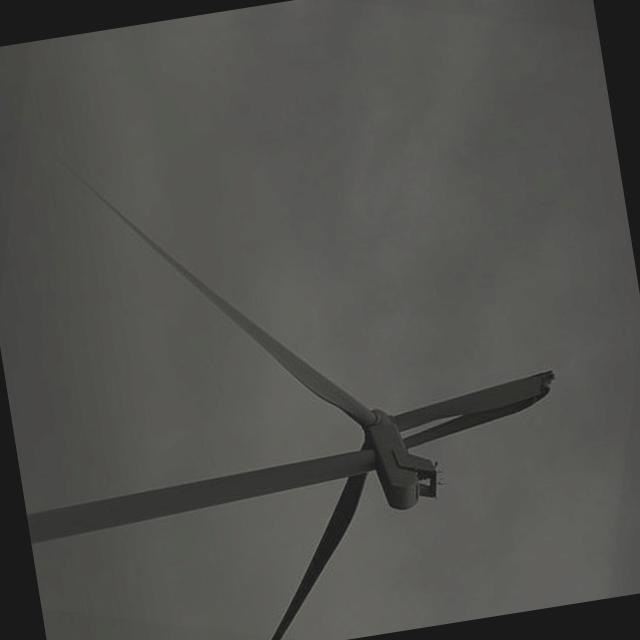crack: (315, 362, 572, 476)
